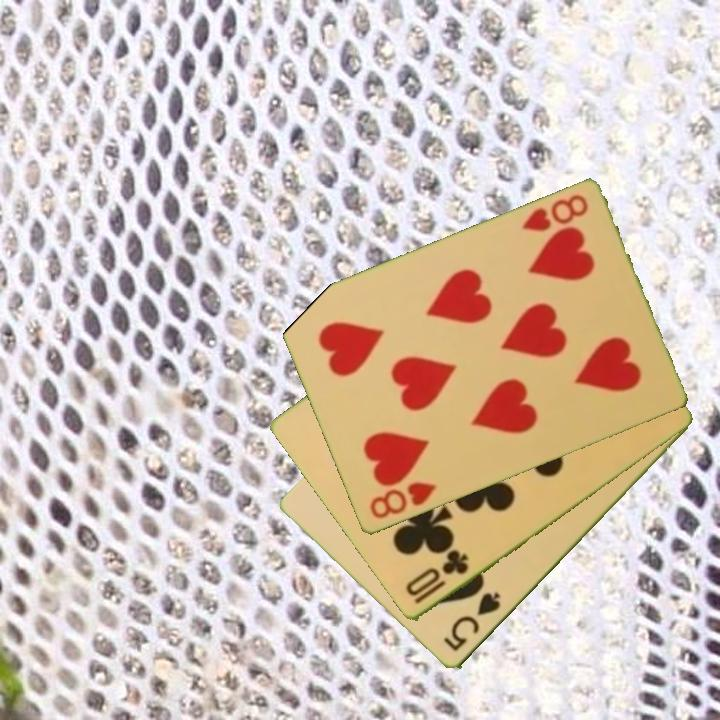10c: (401, 547, 472, 608)
5s: (439, 589, 504, 655)
8h: (517, 191, 591, 235), (366, 479, 439, 523)
